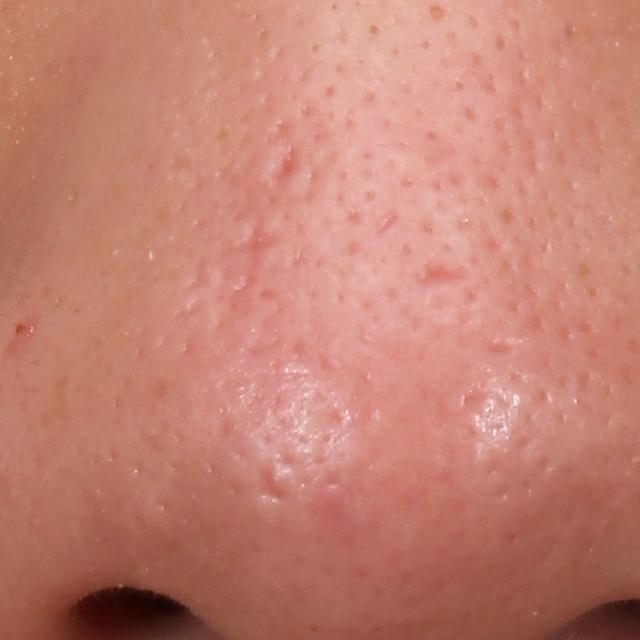atrophic_scar: (222, 200, 282, 306), (411, 257, 468, 287), (268, 140, 298, 189), (256, 462, 287, 508)
comedo: (364, 20, 381, 38)
